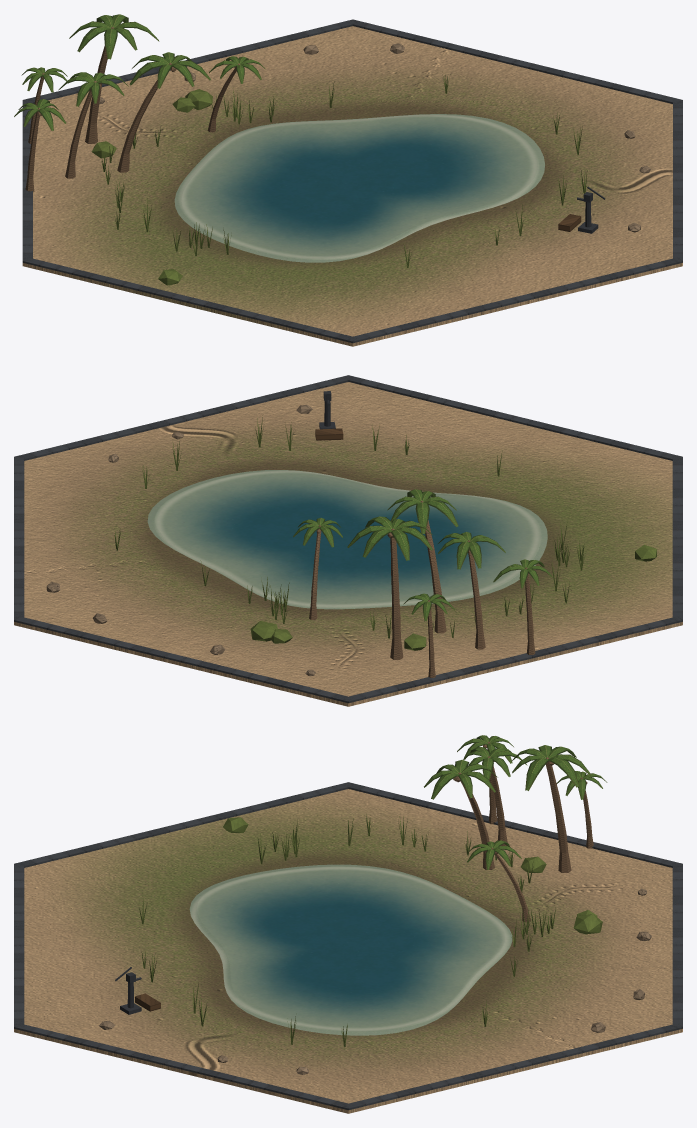
File: WasteOasis.glb
3 views of the same model, one above another, from view 1: azimuth 30°, elevation 25°; view 2: azimuth 150°, elevation 25°; view 3: azimuth 270°, elevation 25° (orthographic).
Parts seen in each view (by area): view 1: WasteOasis_Ground, WasteOasis_Water, WasteOasis_GroundTrim, WasteOasis_Reed, WasteOasis_Palm3, WasteOasis_Palm2, WasteOasis_Palm6, WasteOasis_Shrub, WasteOasis_Palm4, WasteOasis_Palm1, WasteOasis_Palm5, WasteOasis_Rock; view 2: WasteOasis_Ground, WasteOasis_Water, WasteOasis_GroundTrim, WasteOasis_Palm3, WasteOasis_Reed, WasteOasis_Palm2, WasteOasis_Palm6, WasteOasis_Shrub, WasteOasis_Palm1, WasteOasis_Palm4, WasteOasis_Palm5, WasteOasis_Rock; view 3: WasteOasis_Ground, WasteOasis_Water, WasteOasis_GroundTrim, WasteOasis_Reed, WasteOasis_Palm3, WasteOasis_Palm2, WasteOasis_Palm6, WasteOasis_Shrub, WasteOasis_Palm1, WasteOasis_Palm4, WasteOasis_Palm5, WasteOasis_Rock.
Boxes of the visible parts, bbox=[...] form: WasteOasis_Ground: bbox=[22, 26, 682, 346]; WasteOasis_Water: bbox=[174, 114, 544, 262]; WasteOasis_GroundTrim: bbox=[22, 19, 682, 343]; WasteOasis_Reed: bbox=[101, 74, 587, 267]; WasteOasis_Palm3: bbox=[69, 14, 159, 143]; WasteOasis_Palm2: bbox=[117, 52, 210, 172]; WasteOasis_Palm6: bbox=[58, 72, 128, 178]; WasteOasis_Shrub: bbox=[91, 89, 212, 285]; WasteOasis_Palm4: bbox=[14, 99, 65, 191]; WasteOasis_Palm1: bbox=[207, 56, 265, 132]; WasteOasis_Palm5: bbox=[21, 67, 68, 143]; WasteOasis_Rock: bbox=[99, 43, 650, 232]; WasteOasis_Ground: bbox=[14, 382, 682, 706]; WasteOasis_Water: bbox=[147, 470, 547, 609]; WasteOasis_GroundTrim: bbox=[14, 375, 682, 703]; WasteOasis_Palm3: bbox=[347, 516, 432, 659]; WasteOasis_Reed: bbox=[114, 417, 584, 638]; WasteOasis_Palm2: bbox=[387, 489, 458, 633]; WasteOasis_Palm6: bbox=[438, 532, 505, 649]; WasteOasis_Shrub: bbox=[250, 544, 656, 650]; WasteOasis_Palm1: bbox=[293, 518, 342, 619]; WasteOasis_Palm4: bbox=[493, 559, 552, 654]; WasteOasis_Palm5: bbox=[403, 593, 455, 677]; WasteOasis_Rock: bbox=[46, 405, 315, 676]; WasteOasis_Ground: bbox=[14, 789, 682, 1113]; WasteOasis_Water: bbox=[189, 864, 512, 1035]; WasteOasis_GroundTrim: bbox=[14, 782, 682, 1110]; WasteOasis_Reed: bbox=[138, 814, 555, 1046]; WasteOasis_Palm3: bbox=[511, 745, 591, 872]; WasteOasis_Palm2: bbox=[424, 759, 497, 869]; WasteOasis_Palm6: bbox=[463, 747, 527, 845]; WasteOasis_Shrub: bbox=[223, 817, 602, 934]; WasteOasis_Palm1: bbox=[467, 840, 530, 922]; WasteOasis_Palm4: bbox=[457, 735, 513, 824]; WasteOasis_Palm5: bbox=[556, 771, 607, 848]; WasteOasis_Rock: bbox=[99, 888, 651, 1074].
Bounding box in the file's own units: 12 × 2.19 × 10.39.
9 materials, 9 textured.
